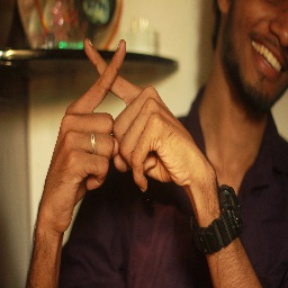X: (55, 34, 169, 140)
